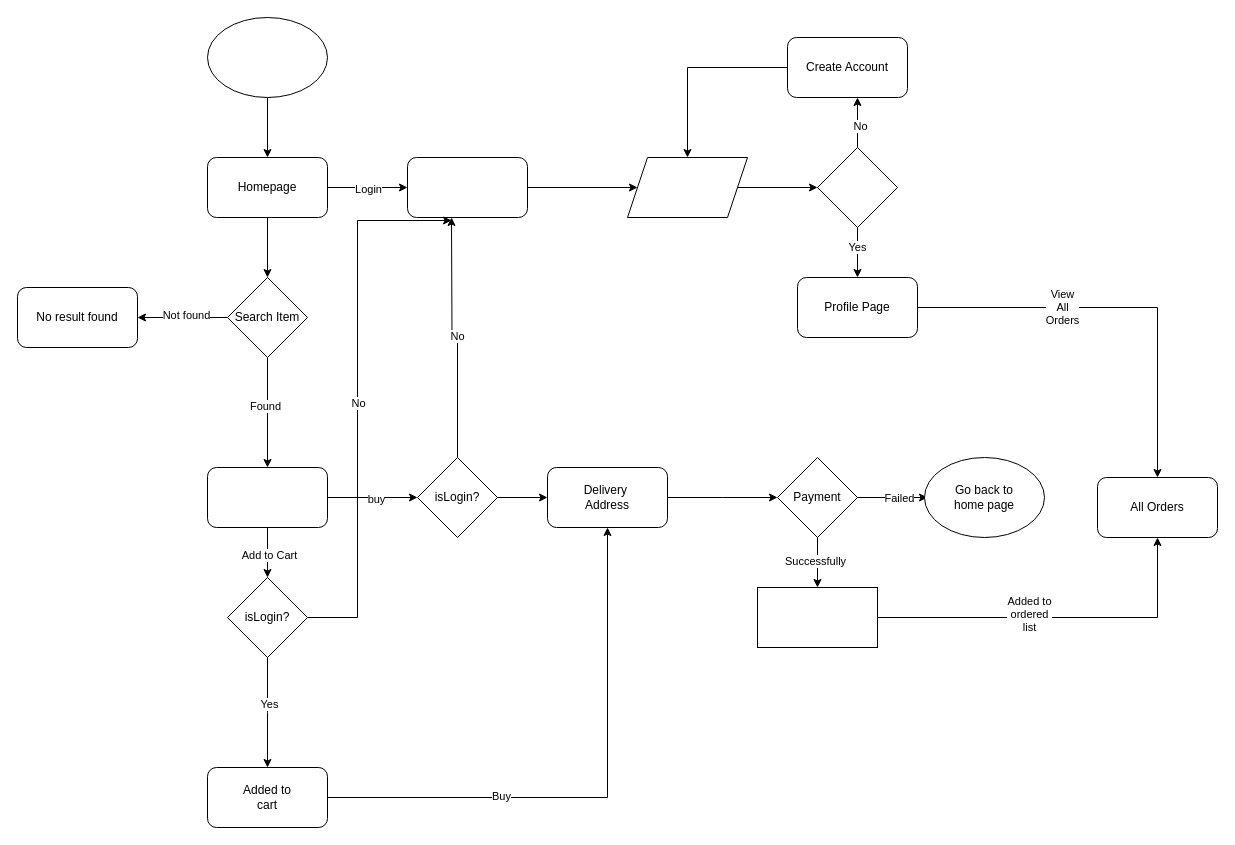
Some shapes in this 1235 by 845 pixel diagram are drawn without their labels. The shapes that lost their labels are listed below. From the top down, each one's centre as x and y in pixels, then its label:
the point at 267,57: Start
the point at 467,187: login page
the point at 687,187: Login Credintails
the point at 857,187: isValid?
the point at 267,497: View Product
the point at 817,617: Ordered
